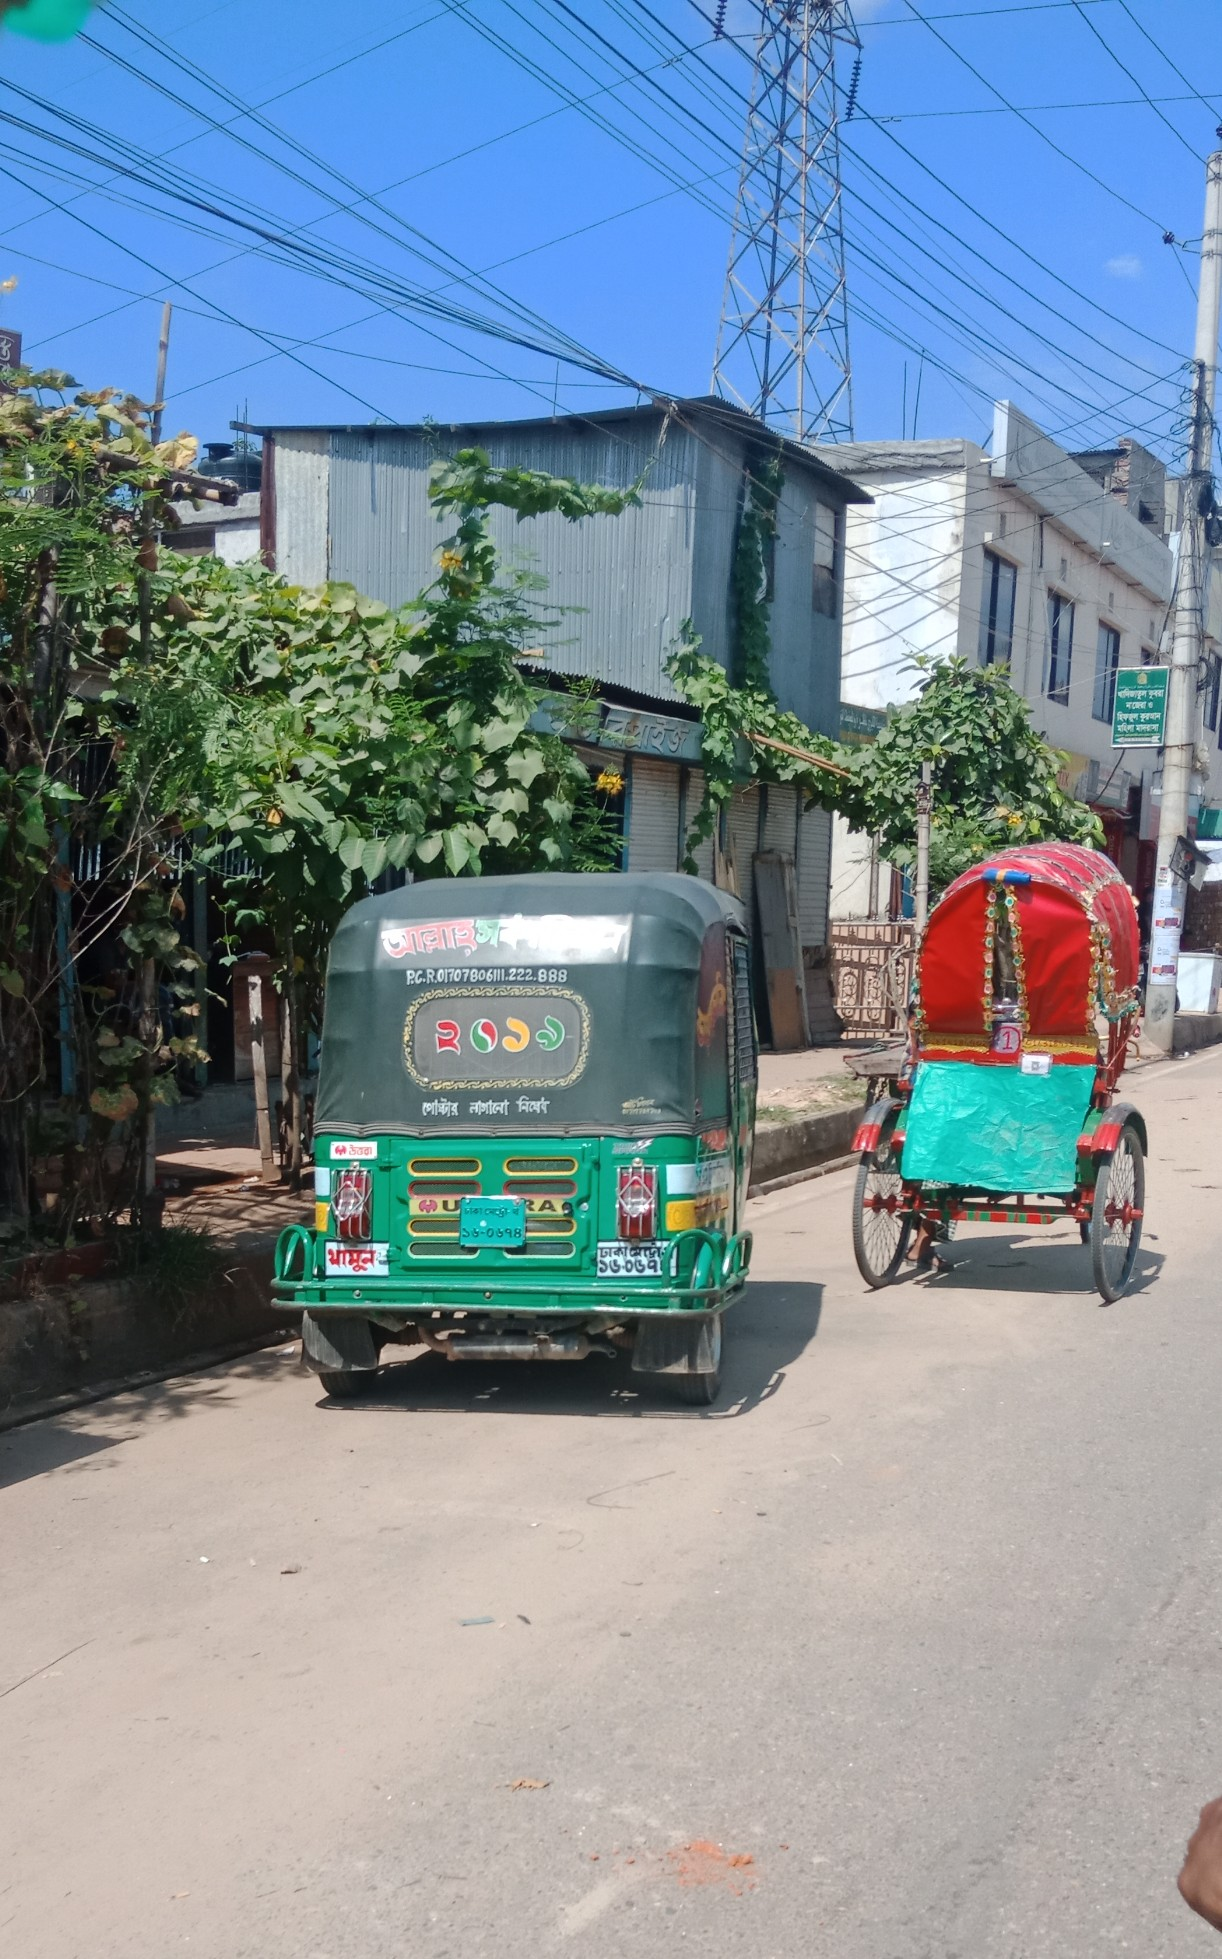cng: (272, 858, 762, 1412)
rickshaw: (840, 830, 1166, 1312)
